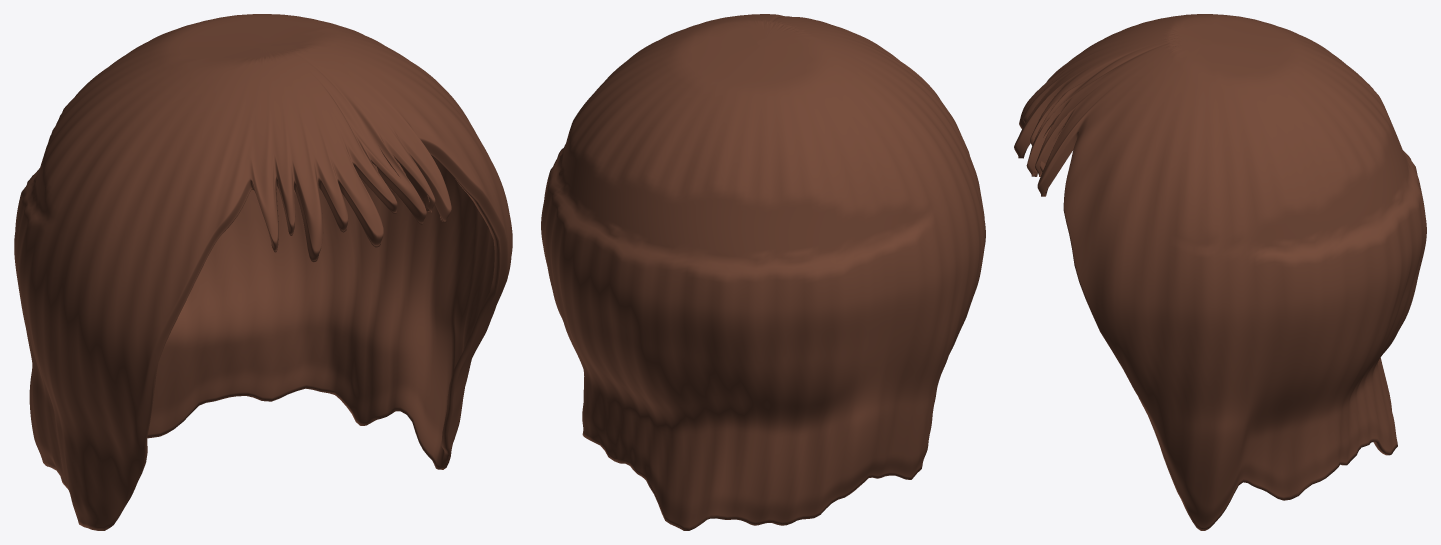
Rendered from side-sweep-bucket.glb.
The picture shows the model from 3 angles, left to right: view 1: azimuth 30°, elevation 25°; view 2: azimuth 150°, elevation 25°; view 3: azimuth 270°, elevation 25°; orthographic projection. The views are drawn at different scales.
Parts seen in each view (by area): view 1: Hair / layered lob; view 2: Hair / layered lob; view 3: Hair / layered lob.
Boxes of the visible parts, x1,y1,x2,y2 form: Hair / layered lob: (14, 14, 512, 530); Hair / layered lob: (541, 14, 985, 530); Hair / layered lob: (1014, 14, 1426, 530).
Bounding box in the file's own units: 0.8388 × 0.8732 × 0.782.
